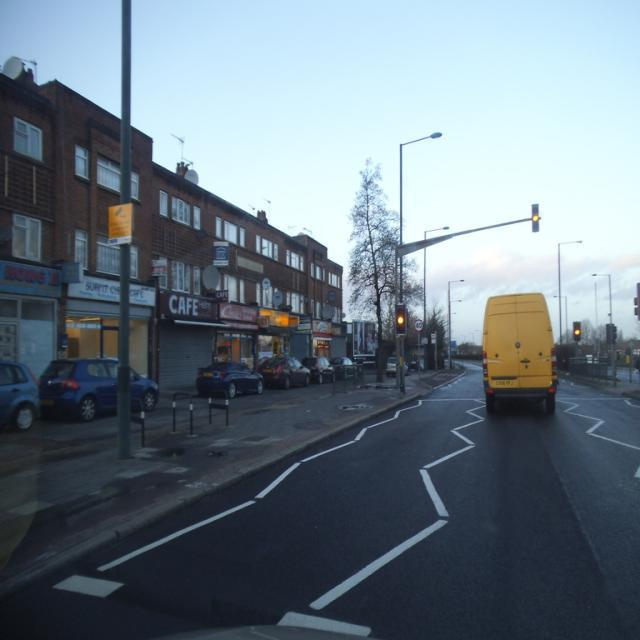traffic light: (395, 302, 406, 335), (532, 204, 541, 233), (572, 321, 582, 342)
